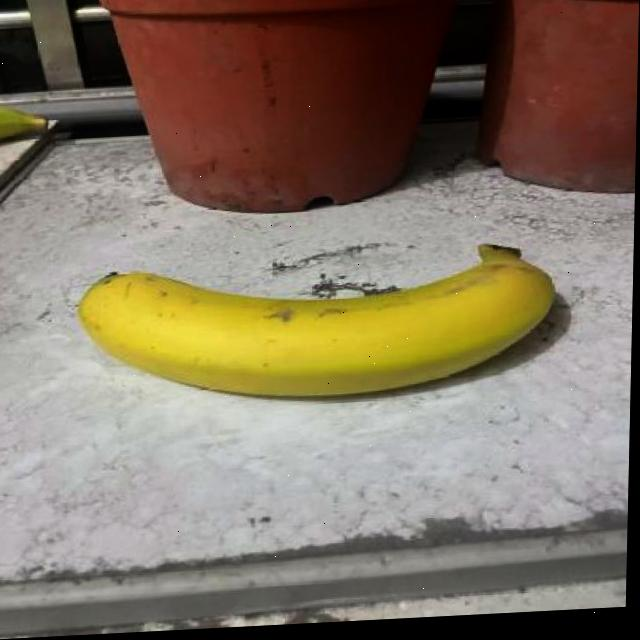banana: (69, 226, 579, 417)
